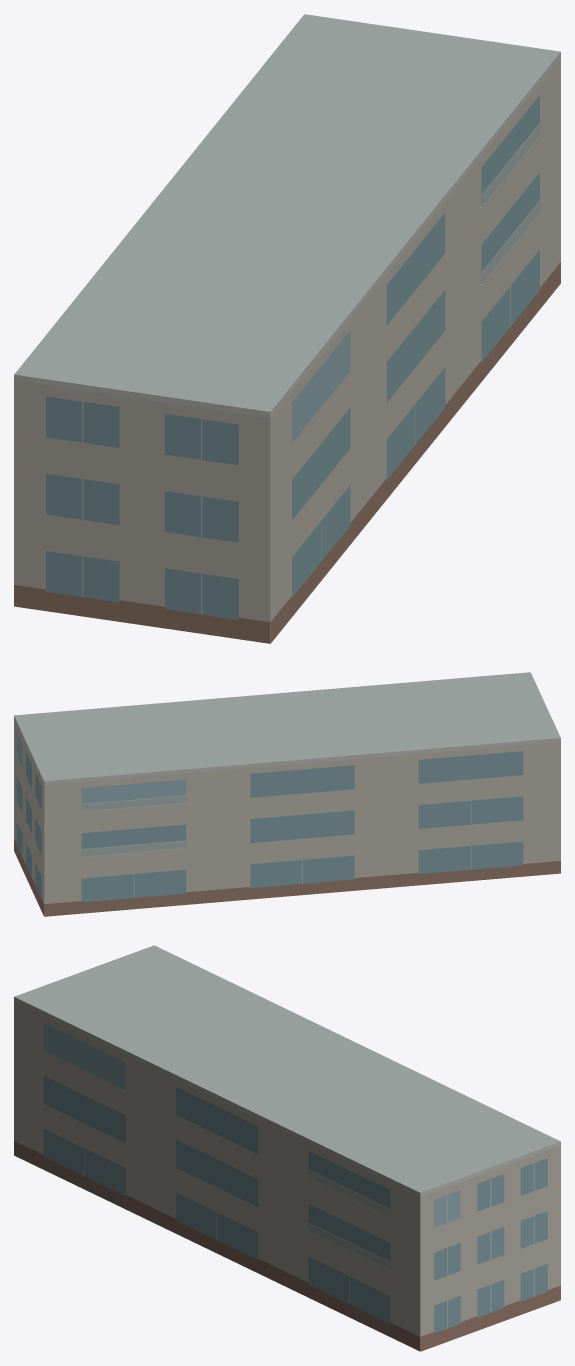
The model's file is survey-upis-32627323.glb.
The picture shows the model from 3 angles, top to bottom: view 1: azimuth 30°, elevation 25°; view 2: azimuth 150°, elevation 25°; view 3: azimuth 270°, elevation 25°; orthographic projection. The views are drawn at different scales.
Parts seen in each view (by area): view 1: survey-upis-32627323.tmp; view 2: survey-upis-32627323.tmp; view 3: survey-upis-32627323.tmp.
Boxes of the visible parts, x1,y1,x2,y2 form: survey-upis-32627323.tmp: (14,14,560,643); survey-upis-32627323.tmp: (14,672,560,916); survey-upis-32627323.tmp: (14,945,560,1351).
Bounding box in the file's own units: 30.62 × 9.15 × 28.57.
